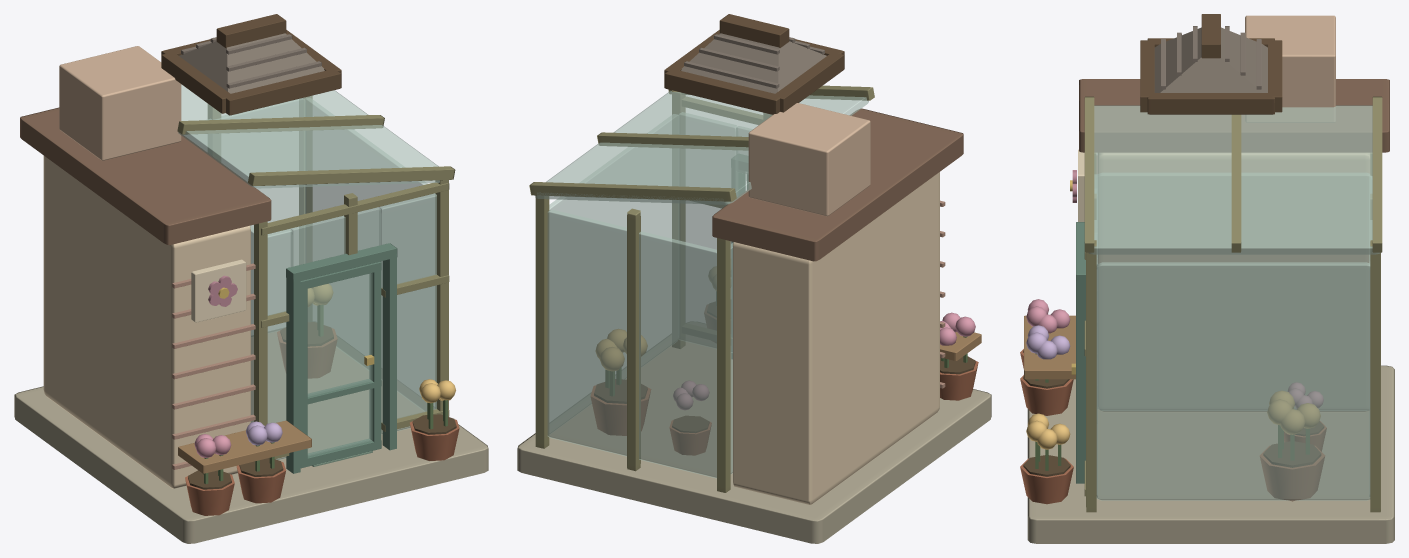
File: florist-3.glb
3 views of the same model, side by side, from view 1: azimuth 30°, elevation 25°; view 2: azimuth 150°, elevation 25°; view 3: azimuth 270°, elevation 25° (orthographic). The views are drawn at different scales.
Parts seen in each view (by area): view 1: florist-3-0, door-hinge; view 2: florist-3-0; view 3: florist-3-0.
Part boxes in pixels (x1,y1,x2,y2): florist-3-0: (14,14,488,543); door-hinge: (300,261,381,468); florist-3-0: (517,14,991,543); florist-3-0: (1020,14,1394,543).
Bounding box in the file's own units: 1.9 × 2.5 × 1.94.
